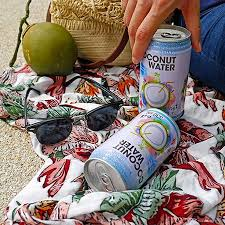can: (82, 108, 183, 192), (139, 22, 192, 122)
